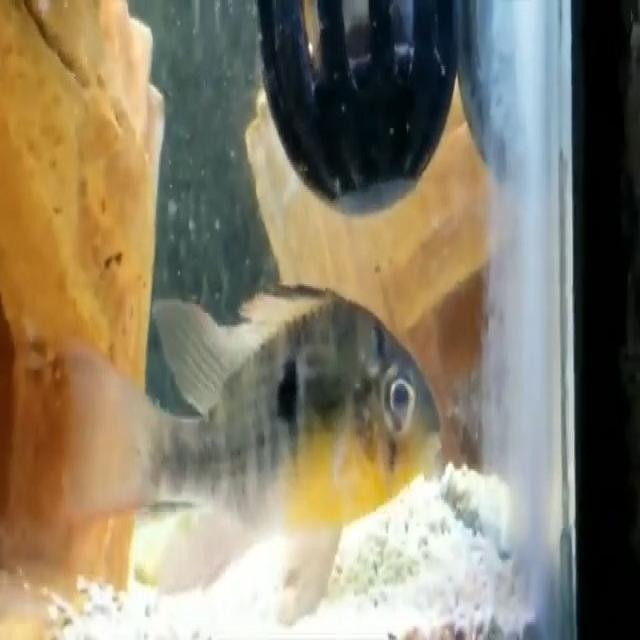fish: (48, 273, 446, 627)
